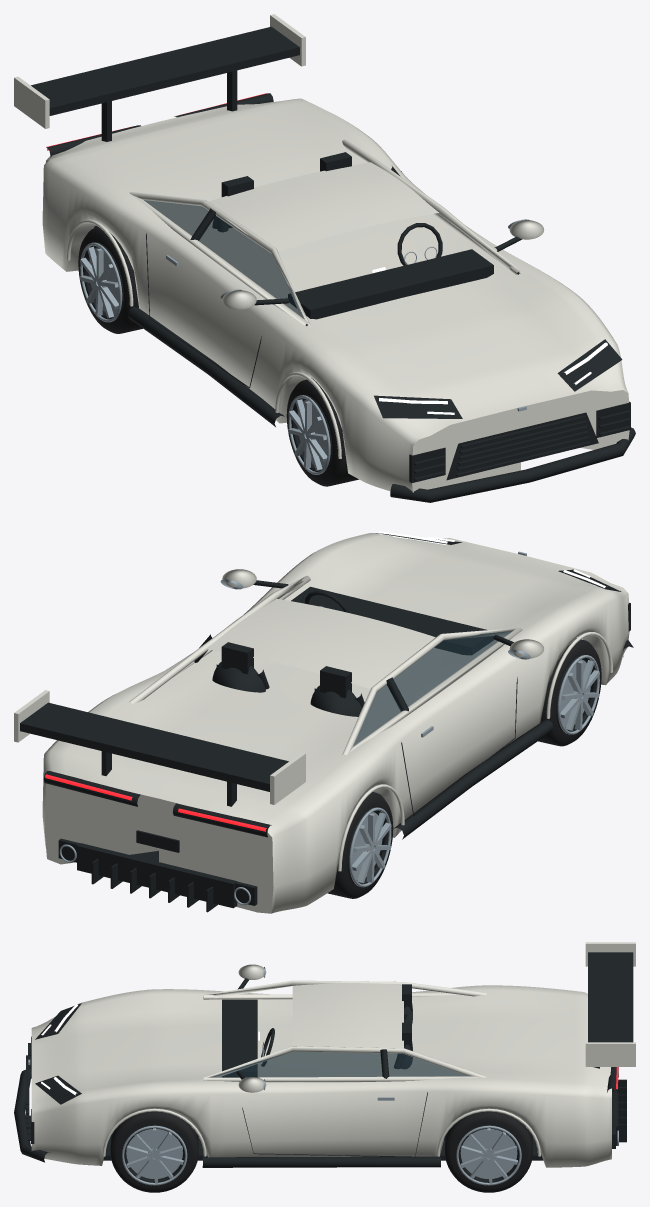
File: gtx-lod0.glb
3 views of the same model, one above another, from view 1: azimuth 30°, elevation 25°; view 2: azimuth 150°, elevation 25°; view 3: azimuth 270°, elevation 25° (orthographic). The views are drawn at different scales.
Parts seen in each view (by area): view 1: sculpted-coachwork_merged, undertray_merged, brake-disc_merged (×2), panoramic-windscreen_merged, tire (×2), led-signature_merged; view 2: sculpted-coachwork_merged, undertray_merged, brake-disc_merged (×2), panoramic-windscreen_merged, tire (×2), rear-light-guide_merged, flush-door-handle_merged, led-signature_merged; view 3: sculpted-coachwork_merged, undertray_merged, brake-disc_merged (×2), tire (×2), panoramic-windscreen_merged, rim-barrel_merged (×2).
Part boxes in pixels (x1=…): sculpted-coachwork_merged: x1=14, y1=14, x2=629, y2=492; undertray_merged: x1=31, y1=26, x2=635, y2=502; brake-disc_merged (×2): x1=79, y1=242, x2=330, y2=474; panoramic-windscreen_merged: x1=144, y1=200, x2=509, y2=318; tire (×2): x1=78, y1=227, x2=358, y2=486; led-signature_merged: x1=372, y1=267, x2=607, y2=414; sculpted-coachwork_merged: x1=14, y1=533, x2=629, y2=913; undertray_merged: x1=20, y1=533, x2=633, y2=912; brake-disc_merged (×2): x1=349, y1=655, x2=599, y2=887; panoramic-windscreen_merged: x1=277, y1=581, x2=512, y2=746; tire (×2): x1=327, y1=638, x2=601, y2=898; rear-light-guide_merged: x1=45, y1=774, x2=266, y2=831; flush-door-handle_merged: x1=59, y1=551, x2=530, y2=905; led-signature_merged: x1=379, y1=531, x2=605, y2=588; sculpted-coachwork_merged: x1=31, y1=942, x2=635, y2=1167; undertray_merged: x1=14, y1=952, x2=633, y2=1167; brake-disc_merged (×2): x1=122, y1=1125, x2=521, y2=1185; tire (×2): x1=110, y1=1111, x2=532, y2=1192; panoramic-windscreen_merged: x1=212, y1=1051, x2=468, y2=1077; rim-barrel_merged (×2): x1=123, y1=1125, x2=519, y2=1182.
Size of the model in its own units: 2.33 by 1.31 by 4.93.
